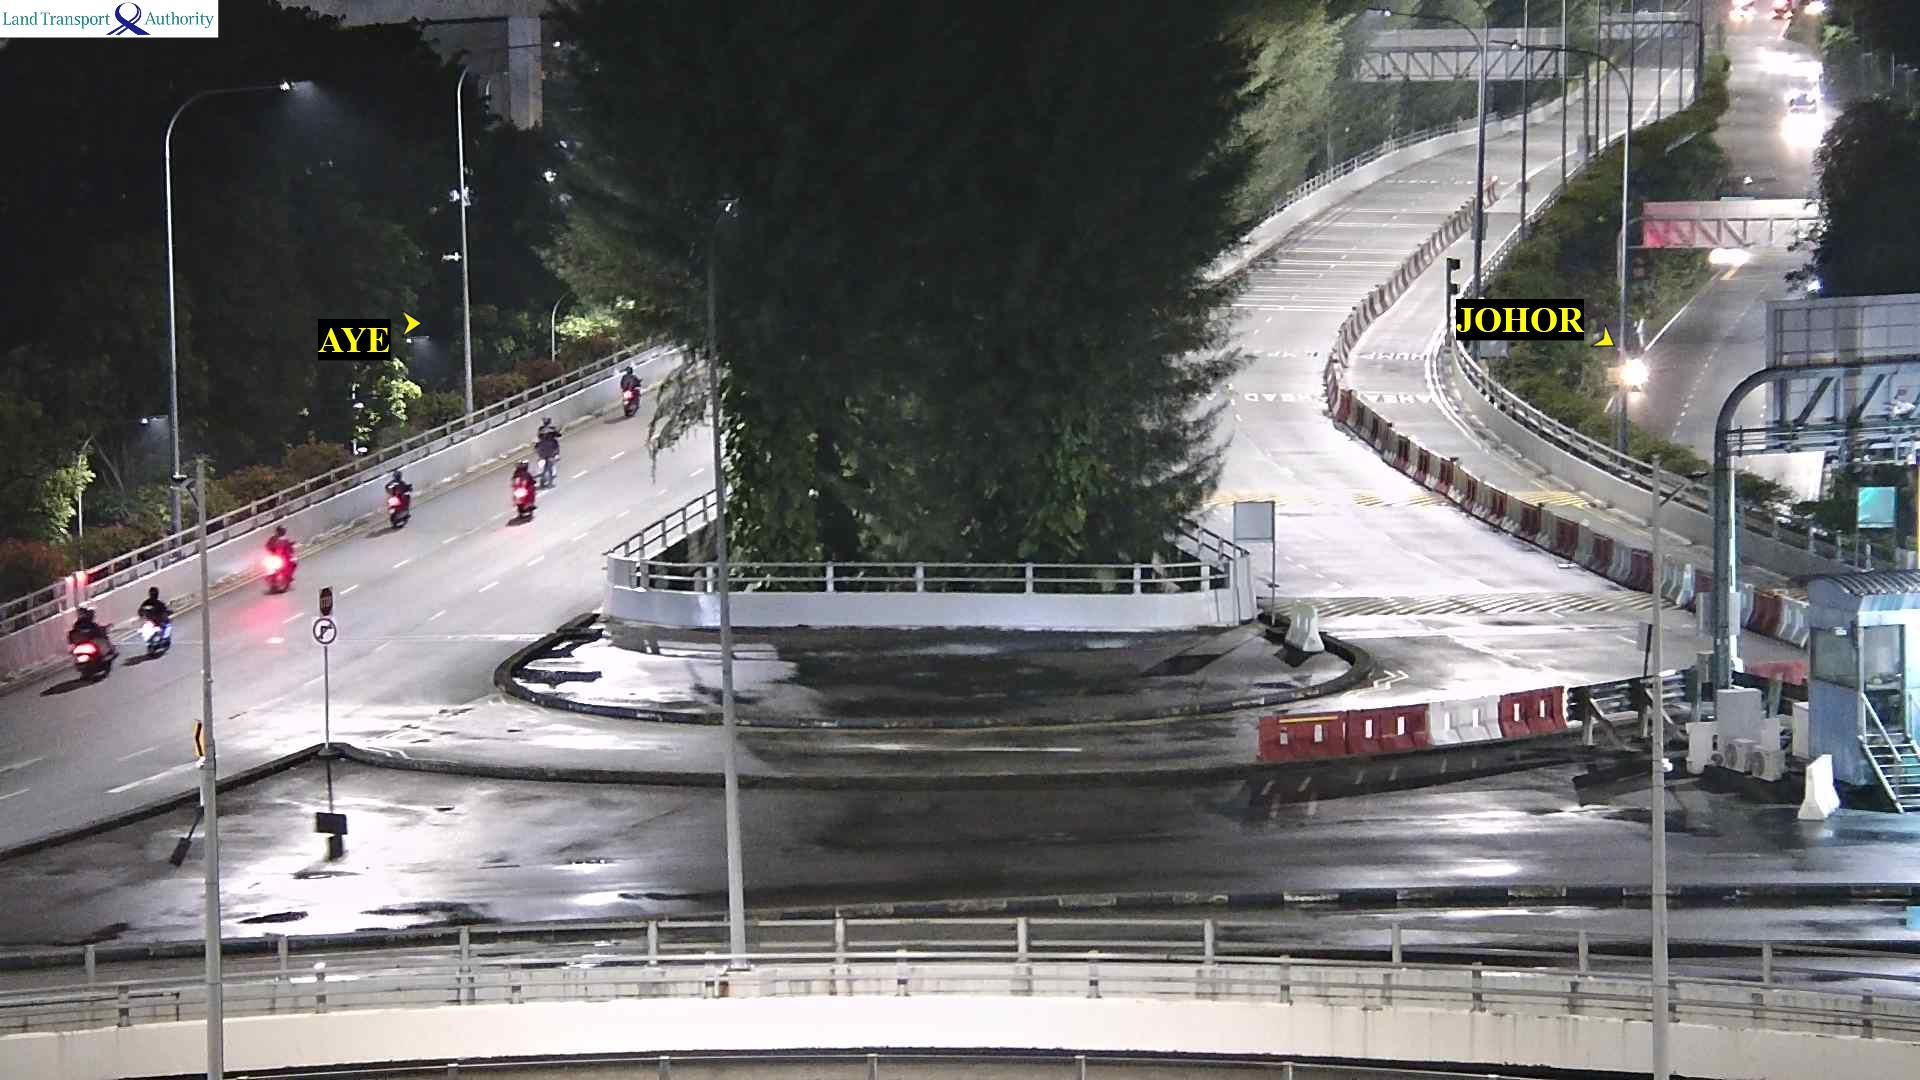vehicle-secondlink-singapore: (74, 623, 121, 683), (270, 538, 302, 593), (145, 580, 168, 651), (386, 469, 415, 520), (507, 459, 530, 512), (548, 422, 575, 462), (620, 365, 641, 409), (537, 419, 562, 454)
